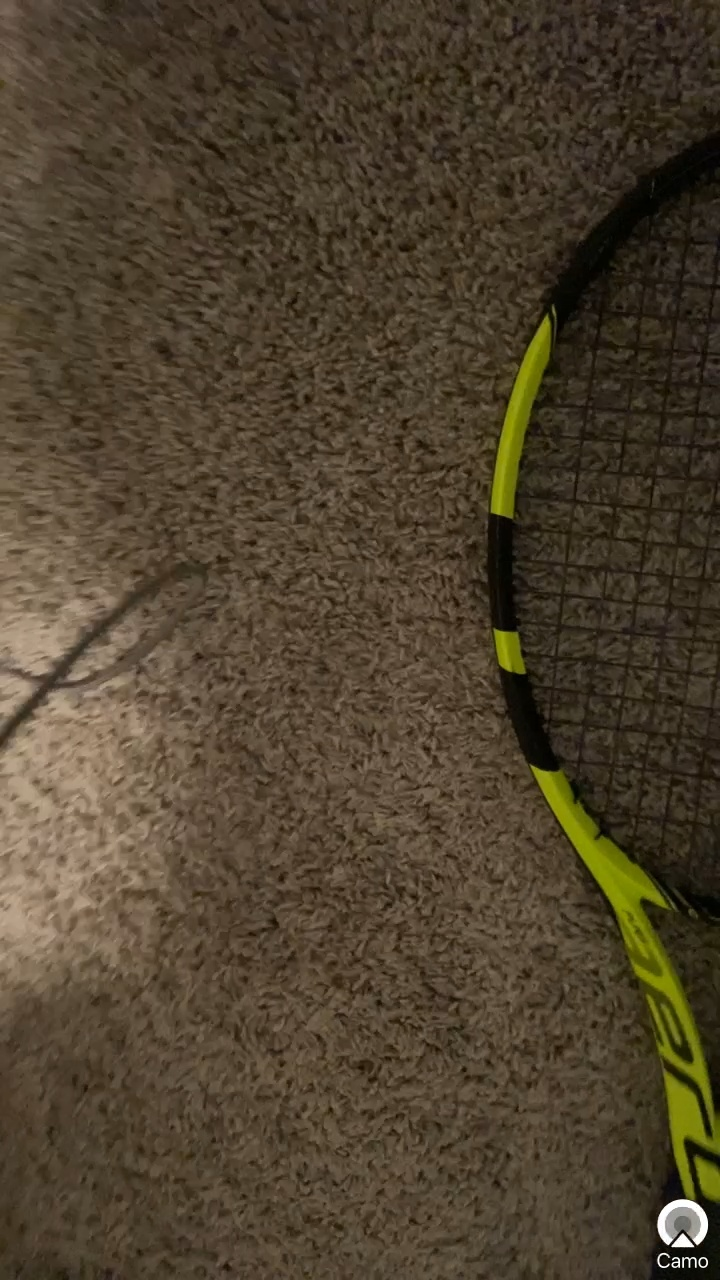Tennis_Racquet: (464, 98, 720, 1280)
